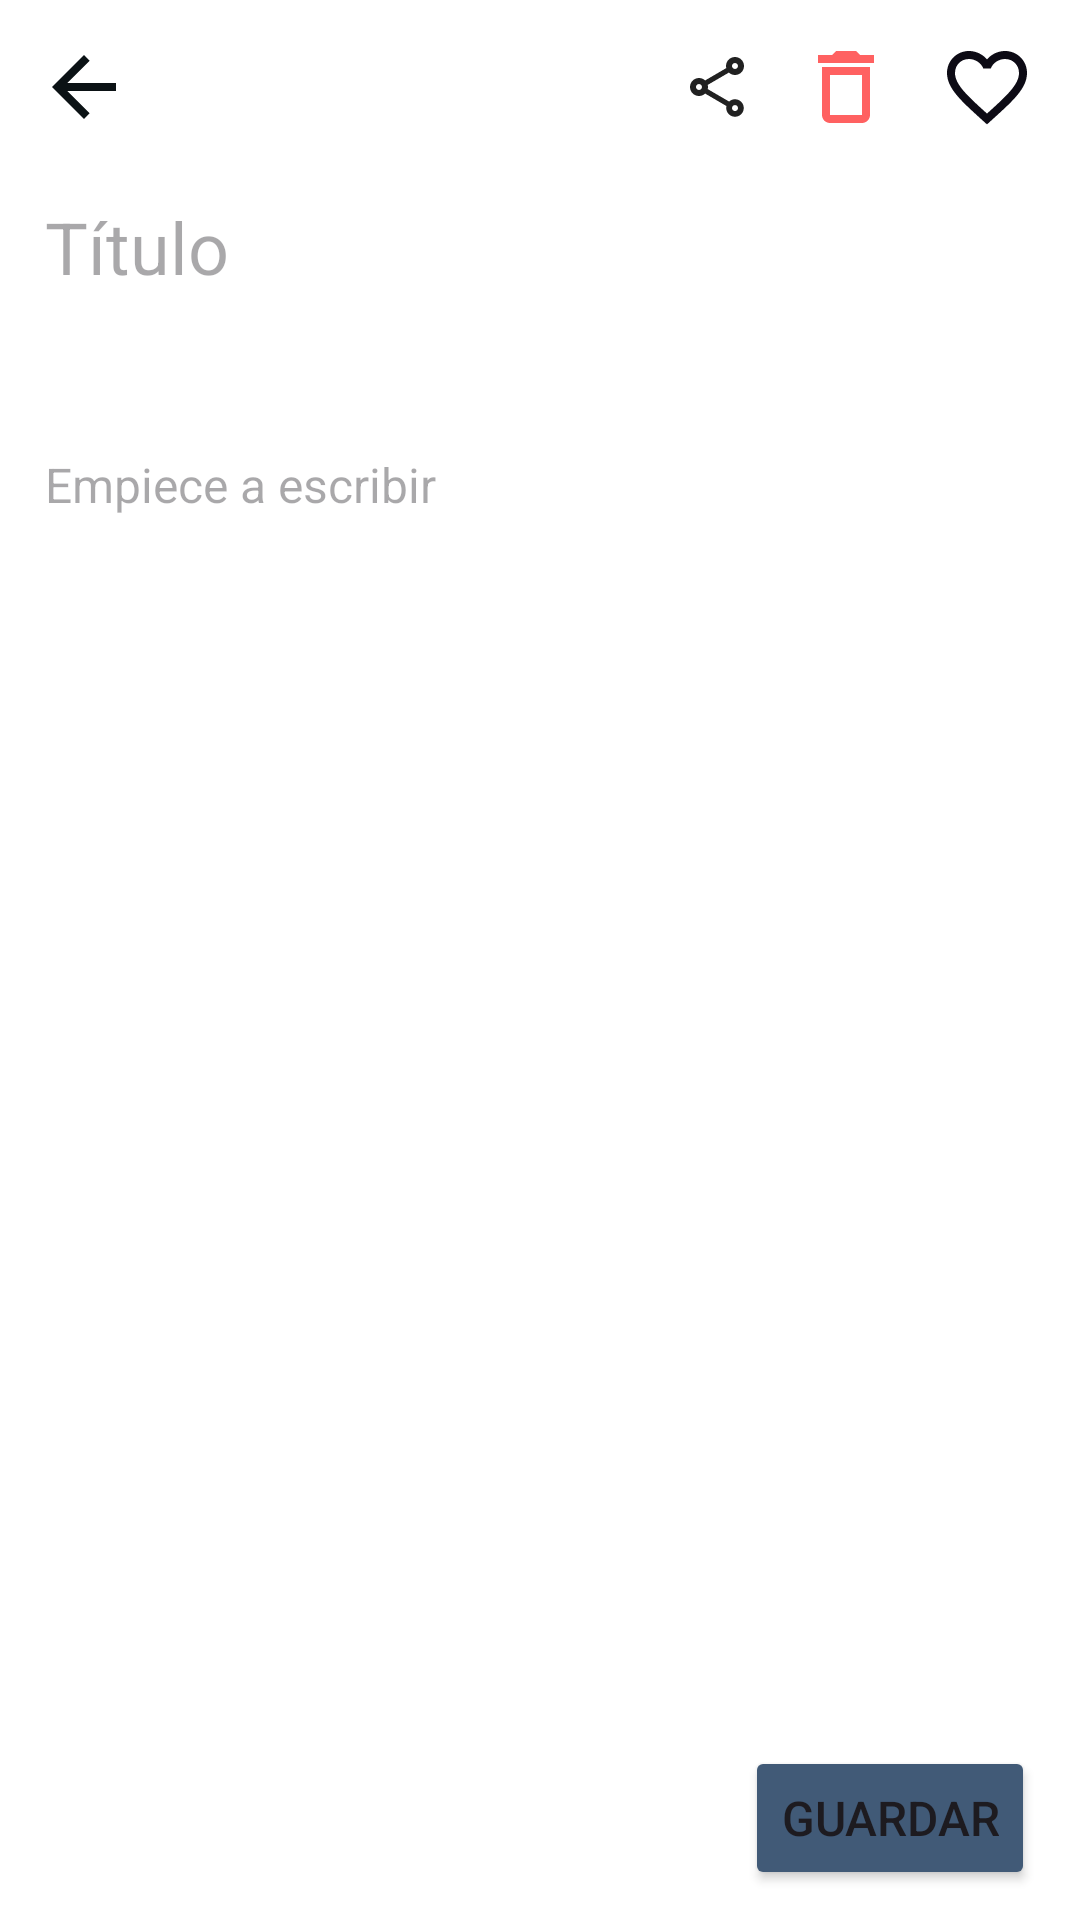

Icons on this 1080×1920 Android screen, each with its box as (left=x1, top=y1, right=x2, bottom=y2):
delete: (left=818, top=51, right=874, bottom=123)
fav: (left=947, top=51, right=1027, bottom=124)
share: (left=690, top=57, right=744, bottom=117)
